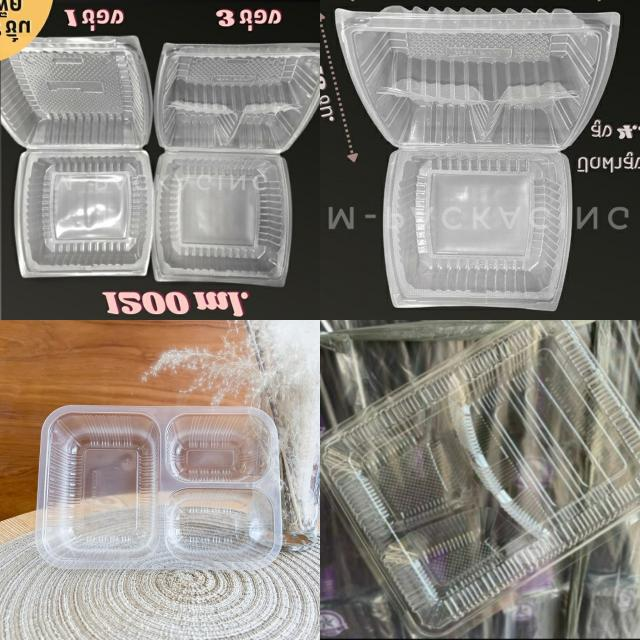Single-Use-Plastic: (321, 321, 640, 637), (335, 6, 620, 149), (35, 405, 282, 569), (152, 44, 319, 286), (1, 36, 154, 278), (384, 149, 571, 310)
